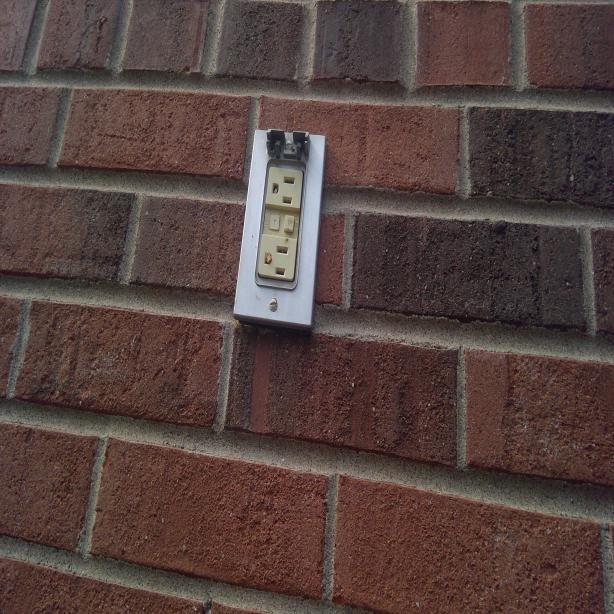typeb: (261, 234, 297, 281), (264, 165, 302, 208)
